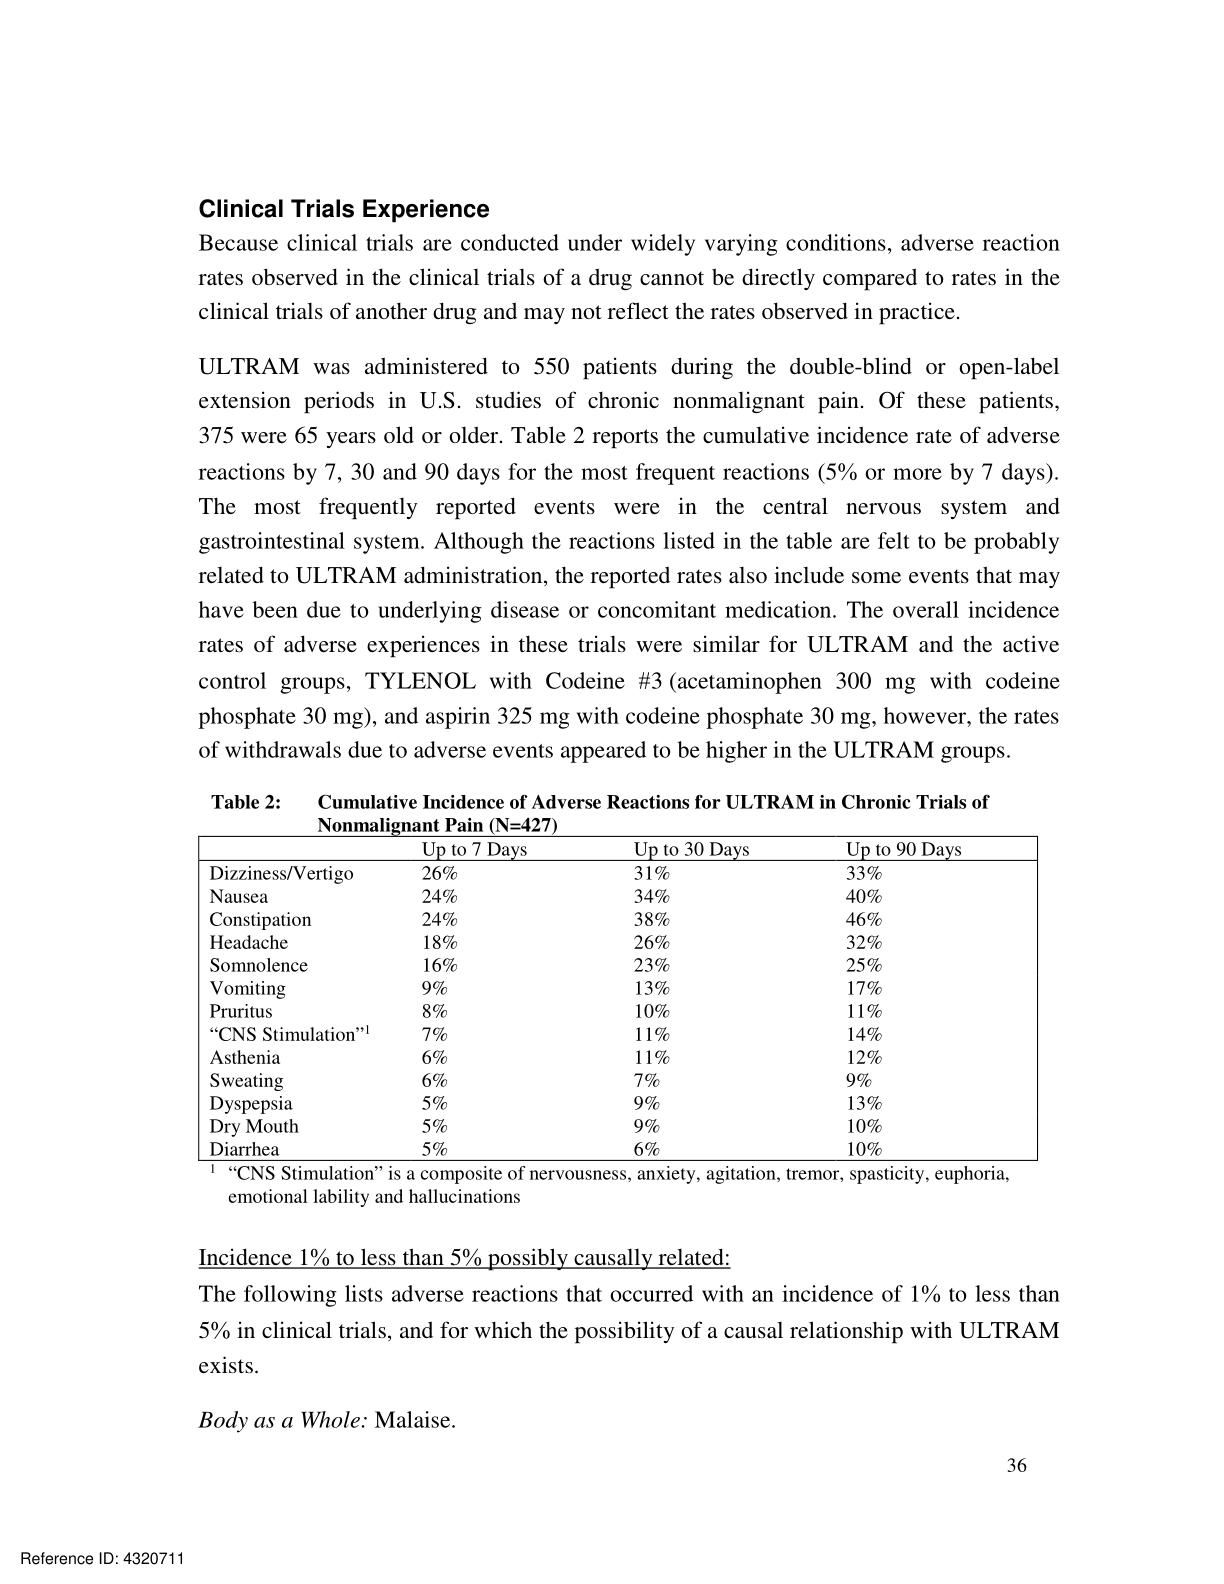partial_lined: (197, 834, 1039, 1164)
